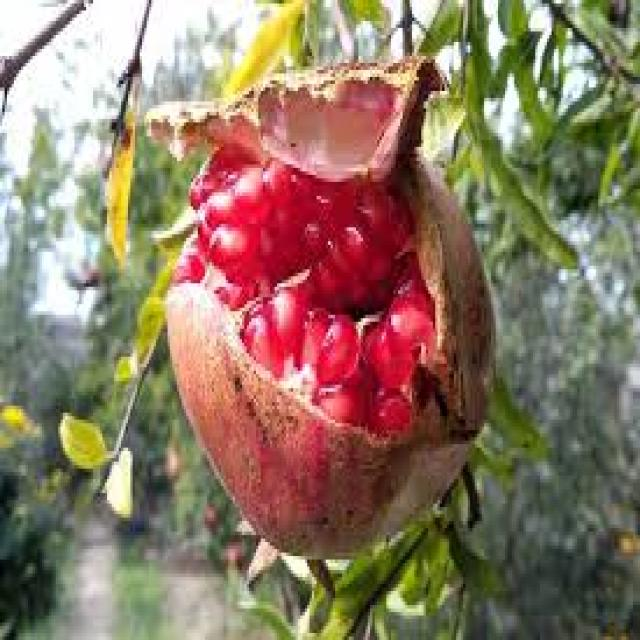overripe: (154, 39, 500, 568)
